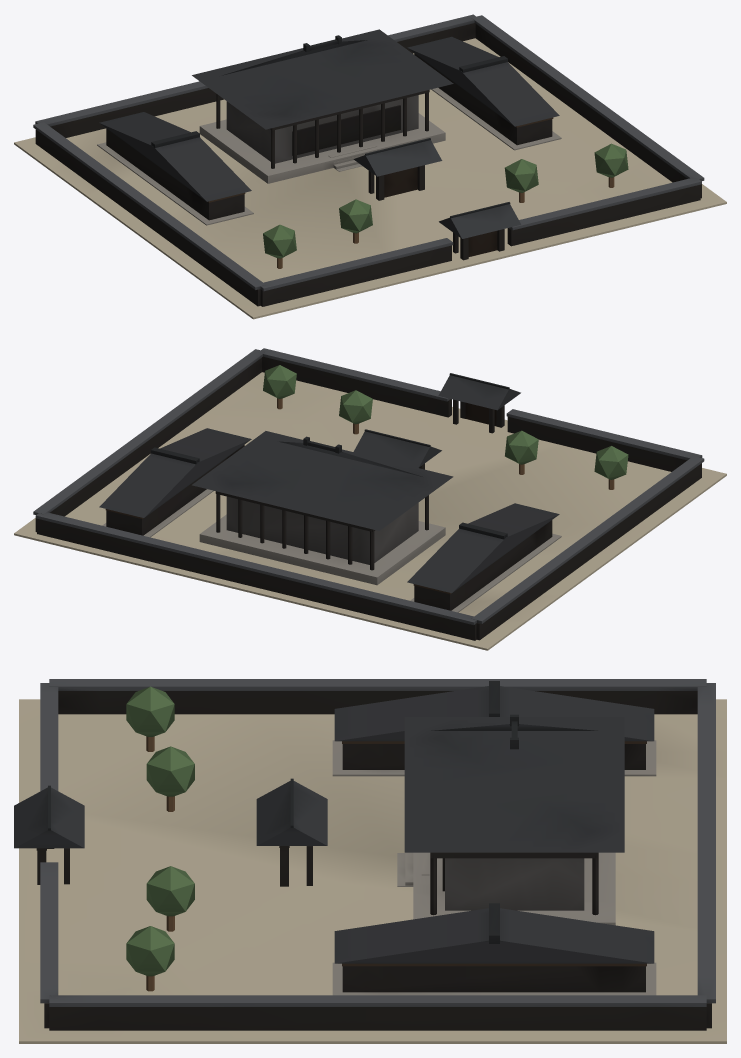
Rendered from yushima-seido.glb.
The picture shows the model from 3 angles, top to bottom: view 1: azimuth 30°, elevation 25°; view 2: azimuth 150°, elevation 25°; view 3: azimuth 270°, elevation 25°; orthographic projection. The views are drawn at different scales.
Parts seen in each view (by area): view 1: p2_Taiseiden, p0_precinct, p1_walls; view 2: p2_Taiseiden, p0_precinct, p1_walls; view 3: p0_precinct, p2_Taiseiden, p1_walls.
Part boxes in pixels (x1,y1,x2,y2): p2_Taiseiden: (97,29,628,268); p0_precinct: (14,38,726,319); p1_walls: (33,14,704,306); p2_Taiseiden: (99,365,628,612); p0_precinct: (14,372,726,650); p1_walls: (33,348,704,640); p0_precinct: (19,699,726,1043); p2_Taiseiden: (126,681,656,995); p1_walls: (14,679,715,1030).
Bounding box in the file's own units: 80 × 15.92 × 70.5.
